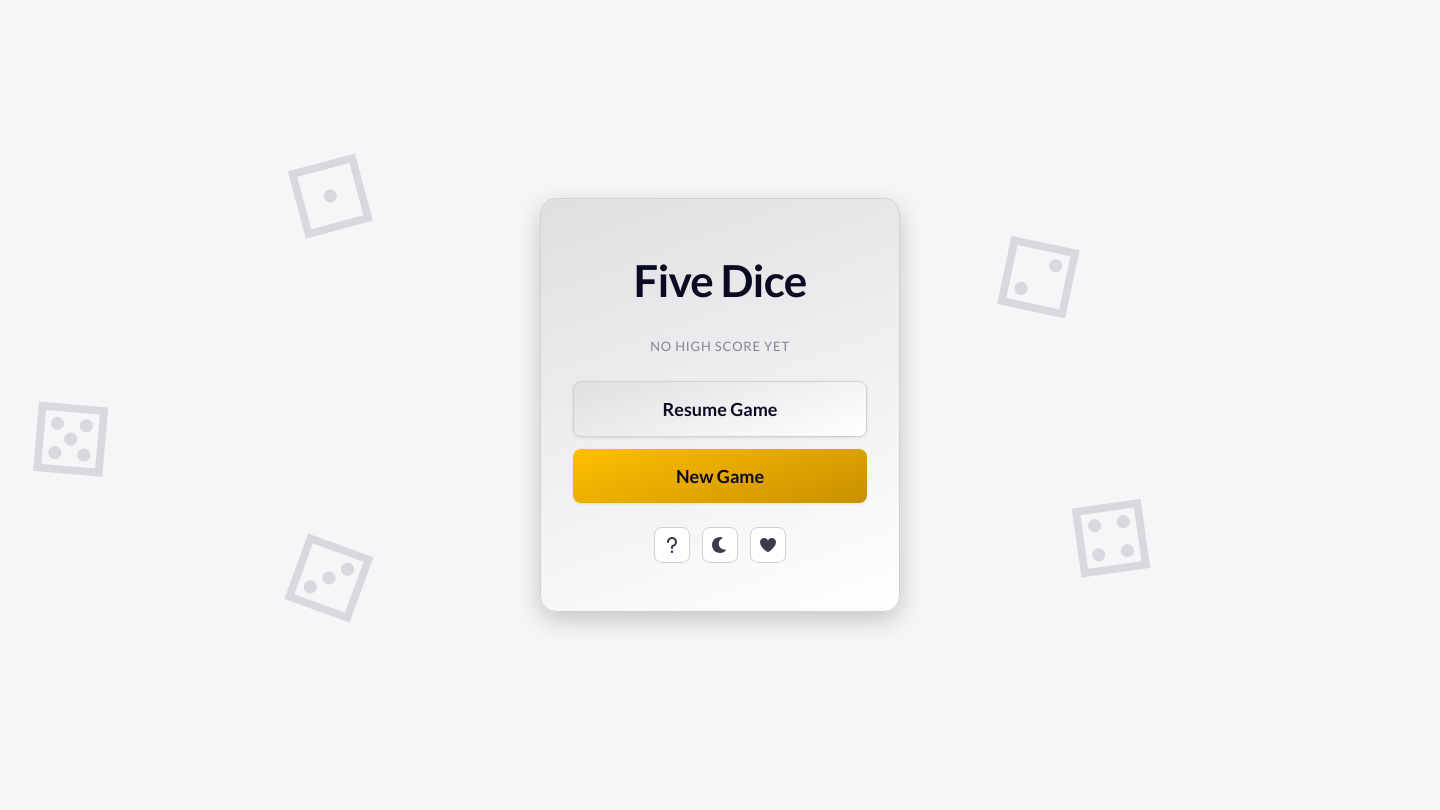
Test case: PlayScreen › Roll button is enabled at the start of a turn
The width and height of the screenshot is (1440, 810).
Click the button "Resume Game". click: coordinates (720, 409)
box: x1=573 y1=381 x2=867 y2=437
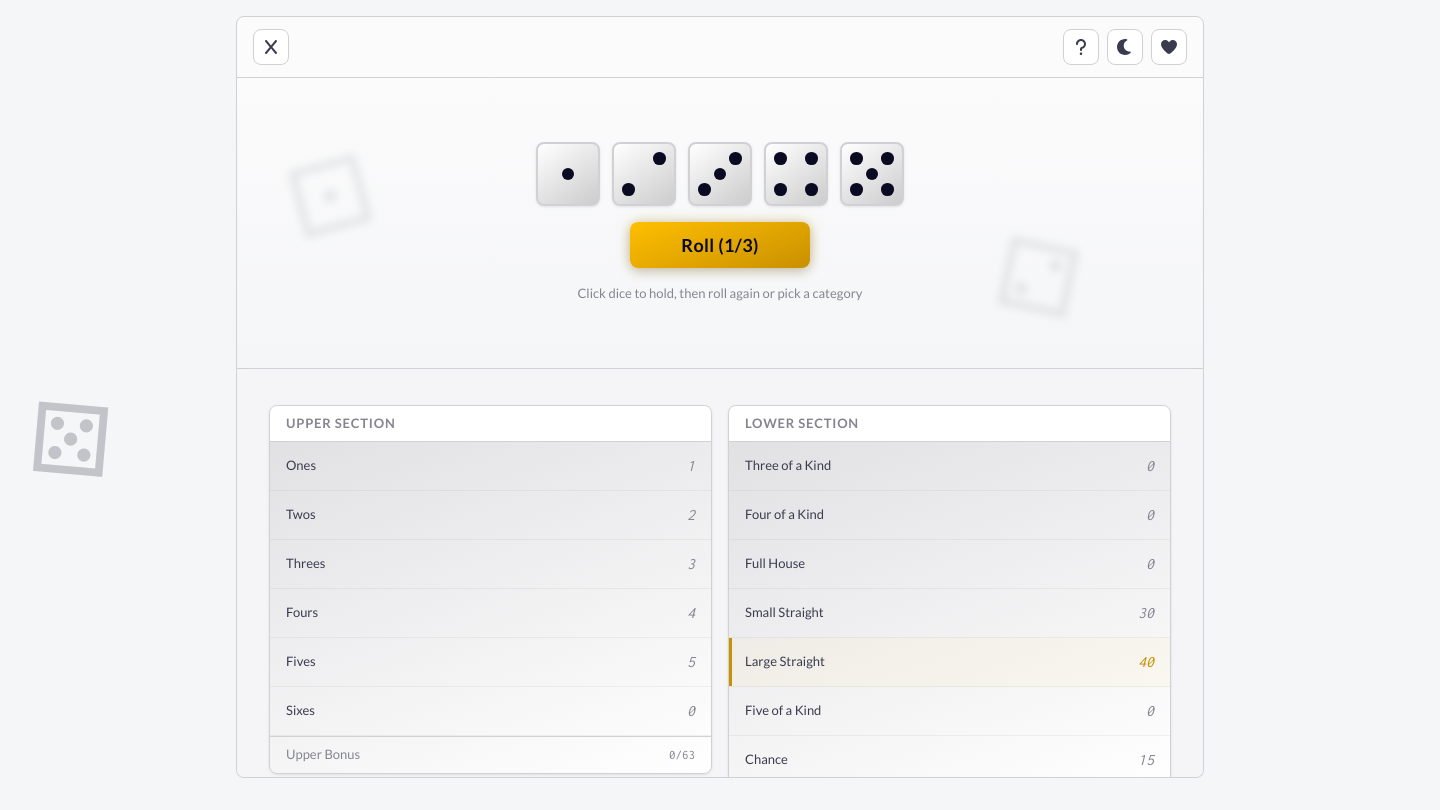
Now the button "Roll (1/3)" is enabled, box x1=630 y1=222 x2=810 y2=268
